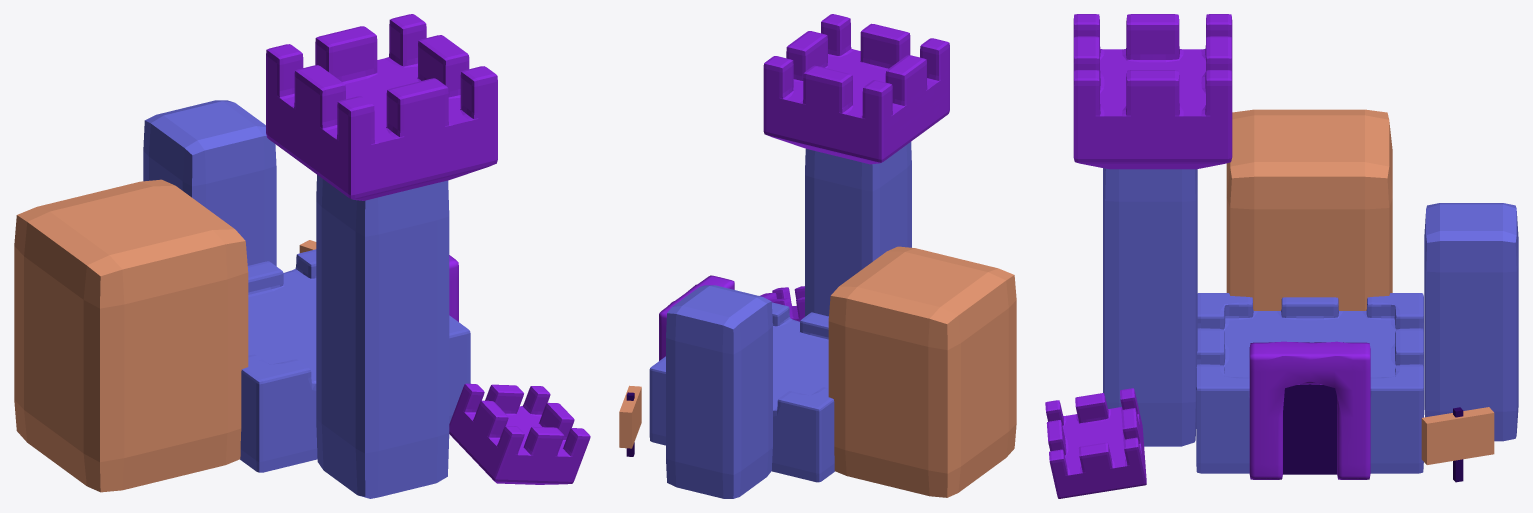
File: M_Castle_Base.fbx
The picture shows the model from 3 angles, left to right: view 1: azimuth 30°, elevation 25°; view 2: azimuth 150°, elevation 25°; view 3: azimuth 270°, elevation 25°; orthographic projection. The views are drawn at different scales.
Visible parts, largest first — view 1: Castle; view 2: Castle; view 3: Castle.
Boxes of the visible parts, left/top/right/bottom form: Castle: left=14, top=14, right=590, bottom=498; Castle: left=619, top=14, right=1016, bottom=498; Castle: left=1045, top=14, right=1518, bottom=498.
Bounding box in the file's own units: 449 × 458 × 500.
